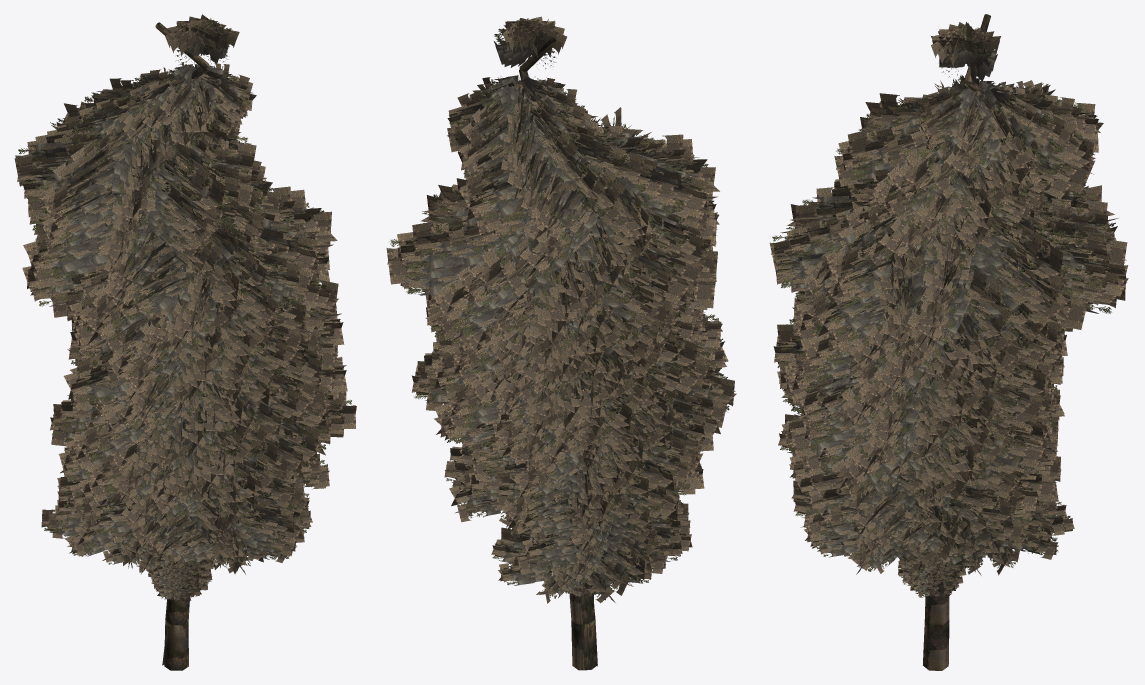
File: pine_tree_01_lod0.glb
3 renders of one model, left to right at view 1: azimuth 30°, elevation 25°; view 2: azimuth 150°, elevation 25°; view 3: azimuth 270°, elevation 25°, orthographic. The views are drawn at different scales.
Parts seen in each view (by area): view 1: pine_tree_01_a_LOD0_LOD0, pine_tree_01_c_LOD0_LOD0, pine_tree_01_b_LOD0_LOD0; view 2: pine_tree_01_a_LOD0_LOD0, pine_tree_01_c_LOD0_LOD0, pine_tree_01_b_LOD0_LOD0; view 3: pine_tree_01_a_LOD0_LOD0, pine_tree_01_c_LOD0_LOD0, pine_tree_01_b_LOD0_LOD0.
Part boxes in pixels (x1,y1,x2,y2): pine_tree_01_a_LOD0_LOD0: [14, 14, 337, 670]; pine_tree_01_c_LOD0_LOD0: [41, 113, 344, 665]; pine_tree_01_b_LOD0_LOD0: [63, 217, 356, 625]; pine_tree_01_a_LOD0_LOD0: [386, 16, 719, 670]; pine_tree_01_c_LOD0_LOD0: [426, 176, 736, 666]; pine_tree_01_b_LOD0_LOD0: [411, 275, 722, 624]; pine_tree_01_a_LOD0_LOD0: [778, 14, 1128, 670]; pine_tree_01_c_LOD0_LOD0: [769, 117, 1074, 663]; pine_tree_01_b_LOD0_LOD0: [773, 183, 1073, 598].
Size of the model in its own units: 9.85 by 20.6 by 10.25.
Materials: 4 (4 with a texture image).
